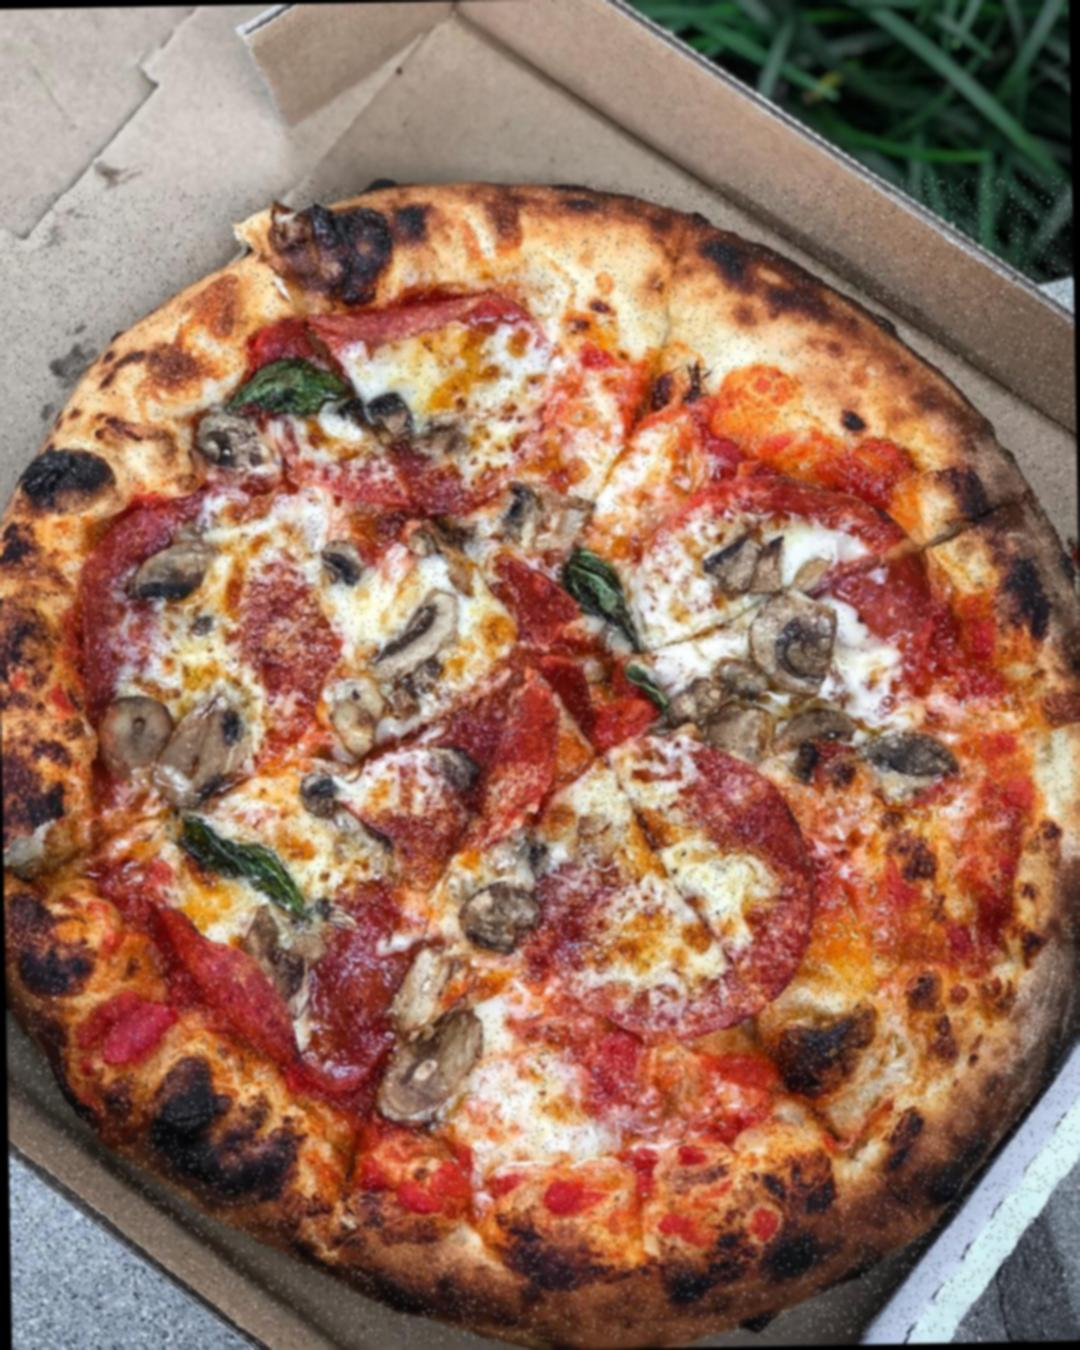Basil: (169, 828, 305, 907), (213, 349, 344, 414), (559, 529, 630, 627)
Mushroom: (94, 701, 259, 801), (739, 581, 849, 691), (389, 1003, 476, 1121), (176, 392, 284, 475), (133, 533, 238, 607), (361, 587, 457, 661), (454, 874, 540, 954), (699, 527, 793, 594), (487, 480, 555, 553), (324, 549, 374, 592)
Pepperoni: (532, 731, 812, 1034), (623, 494, 935, 741), (71, 494, 341, 703), (324, 303, 569, 515), (294, 877, 445, 1101), (322, 702, 489, 853), (484, 558, 575, 725)
Pizza: (0, 176, 1080, 1350)
